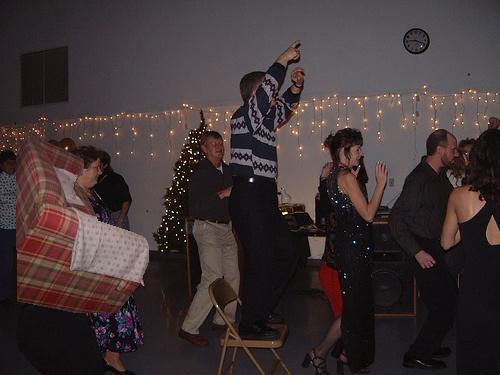tampered: (17, 135, 149, 313)
